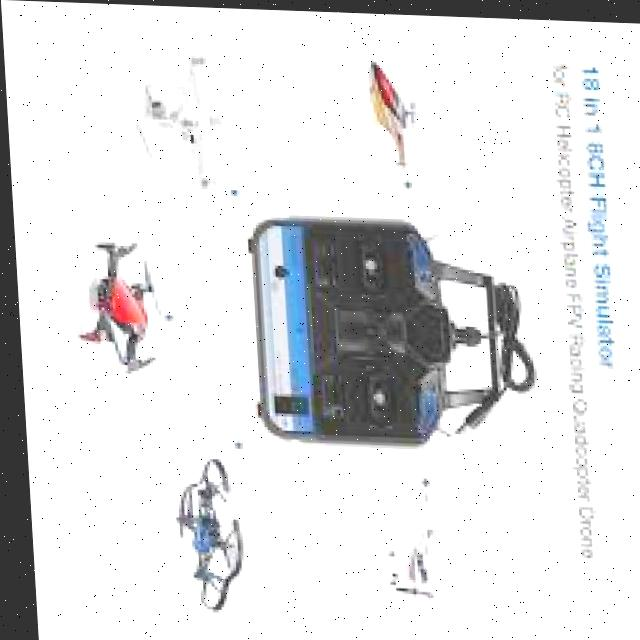drone: (110, 32, 250, 203), (57, 224, 181, 390), (158, 444, 247, 630), (365, 452, 454, 616)
